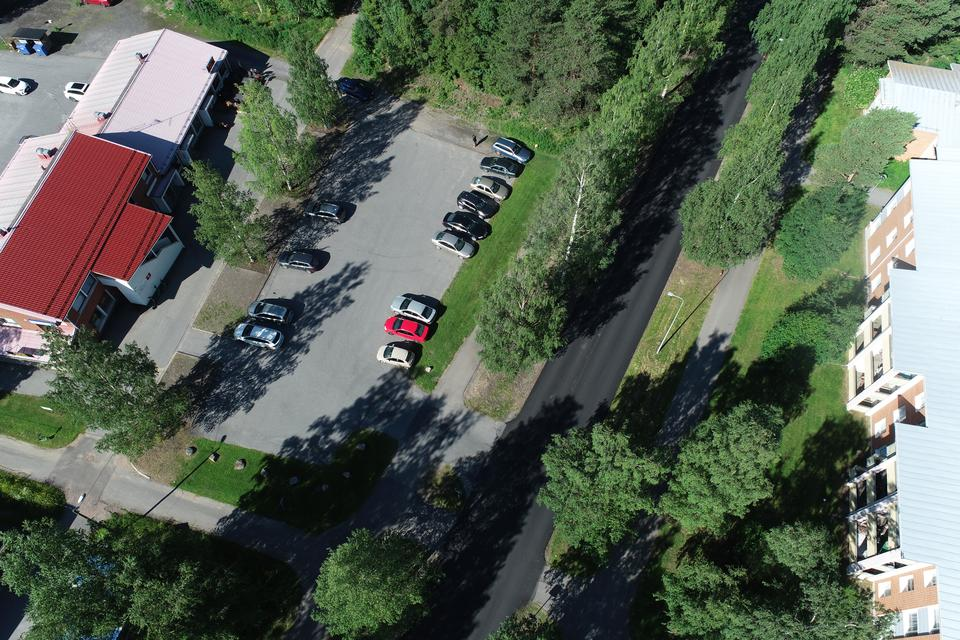intersection: (339, 352, 594, 559)
